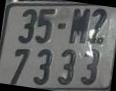-: (58, 22, 67, 30)
2: (91, 9, 106, 46)
3: (80, 49, 101, 85), (33, 49, 52, 85), (19, 8, 37, 45), (58, 49, 76, 86)
5: (38, 8, 56, 44)
7: (10, 48, 30, 86)
M: (69, 8, 89, 44)
